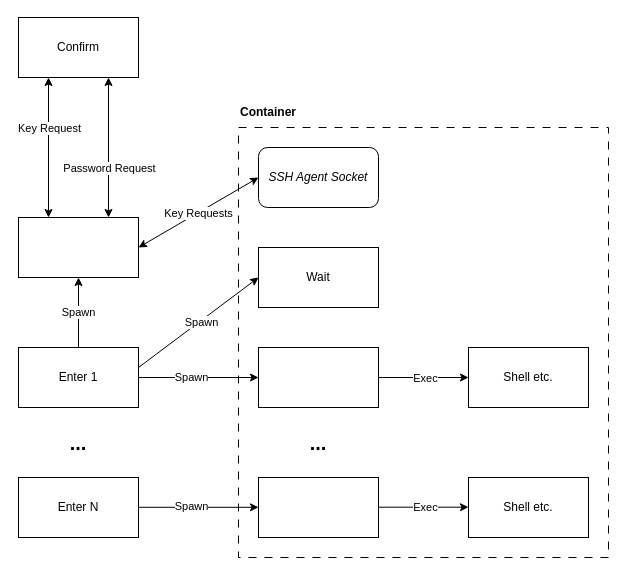
This 626x575 diagram has some shape labels left out. The shapes that lost their labels are listed below. From the top down, each one's centre as x and y in pixels, then its label:
point 78,247: Daemon
point 318,377: Entrypoint 1
point 318,507: Entrypoint N
